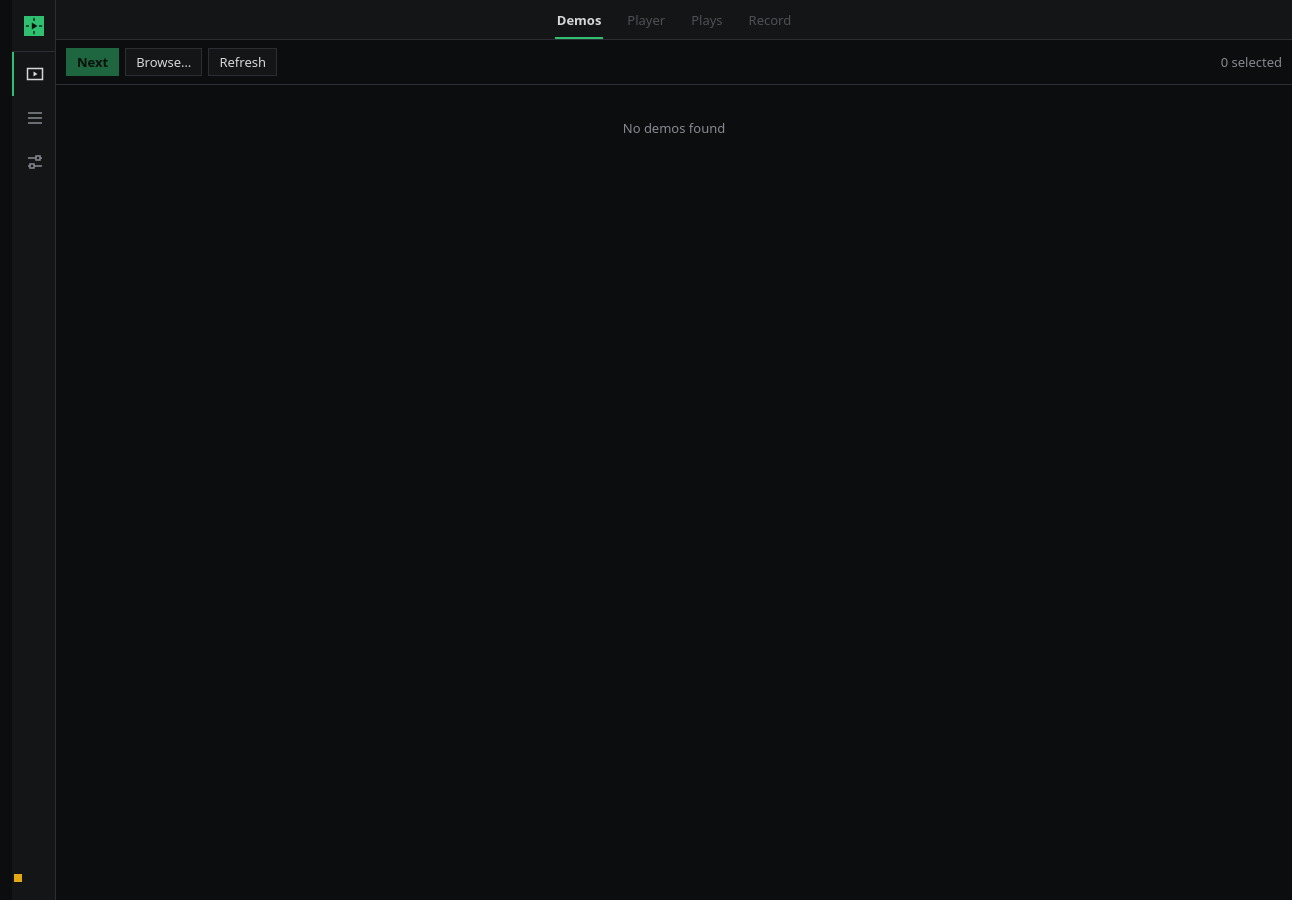
Test: the side bar says ready with warnings and opens the checks
This screenshot has width=1292, height=900.
Click the button named "Ready, with warnings": (17, 878) [12,856,22,899]
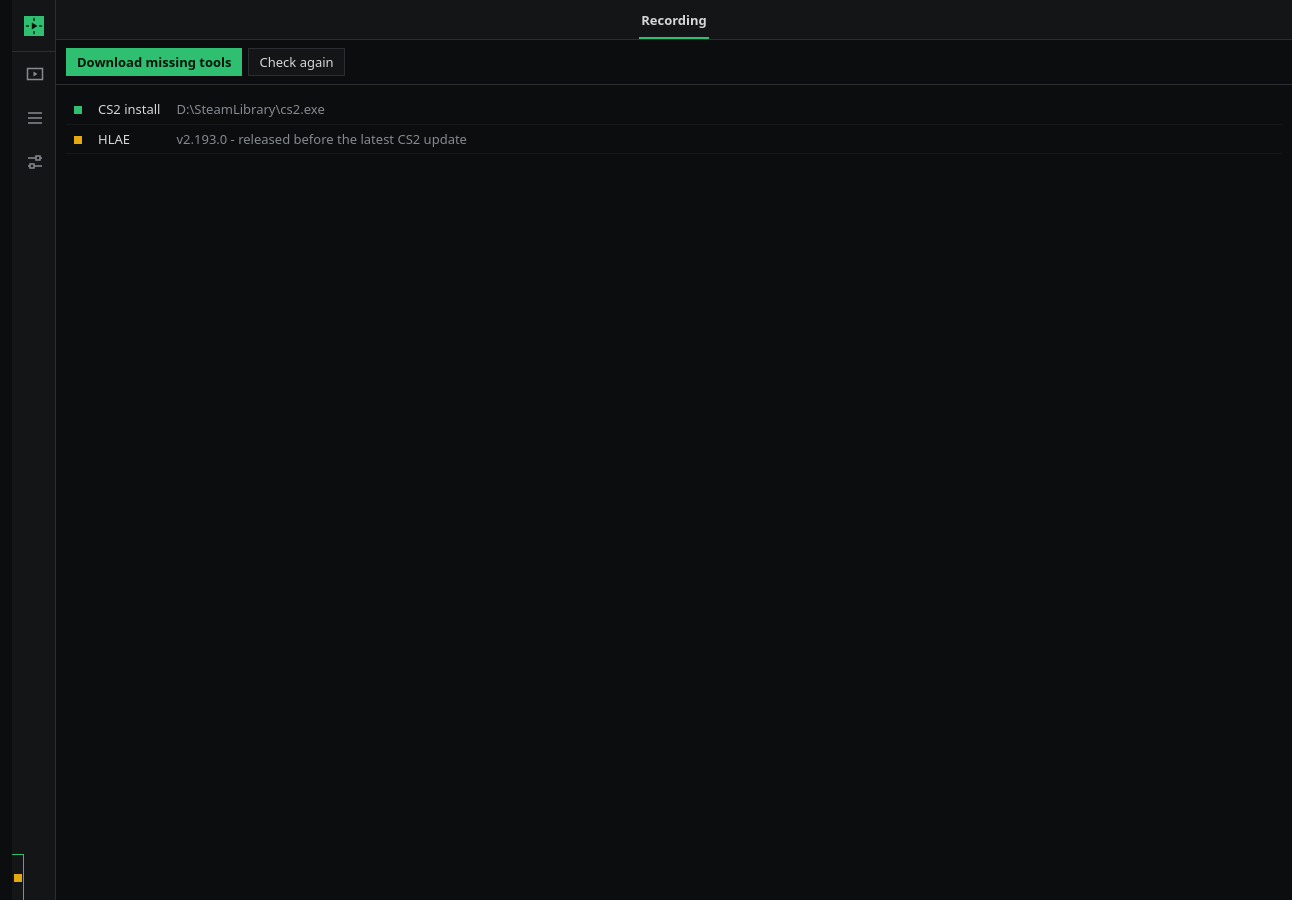
Check: the text "HLAE" is shown, box [90,124,168,153]
Check: the element named "WARN" is shown, box [74,136,82,144]
